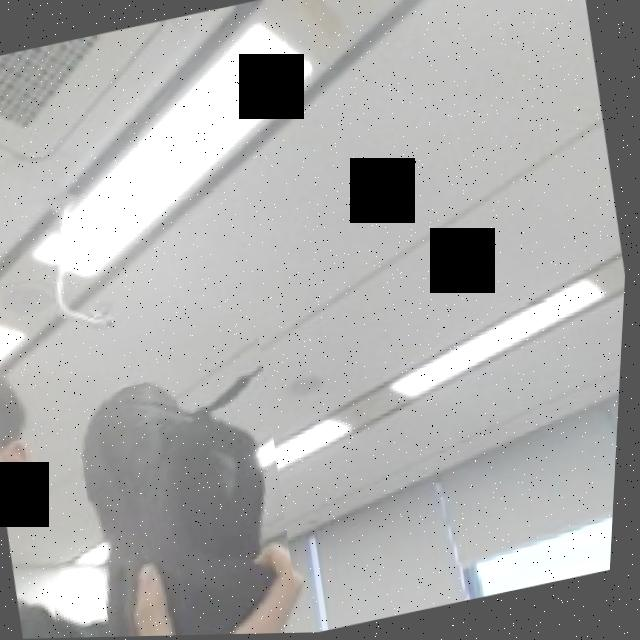shoe: (6, 309, 322, 639)
